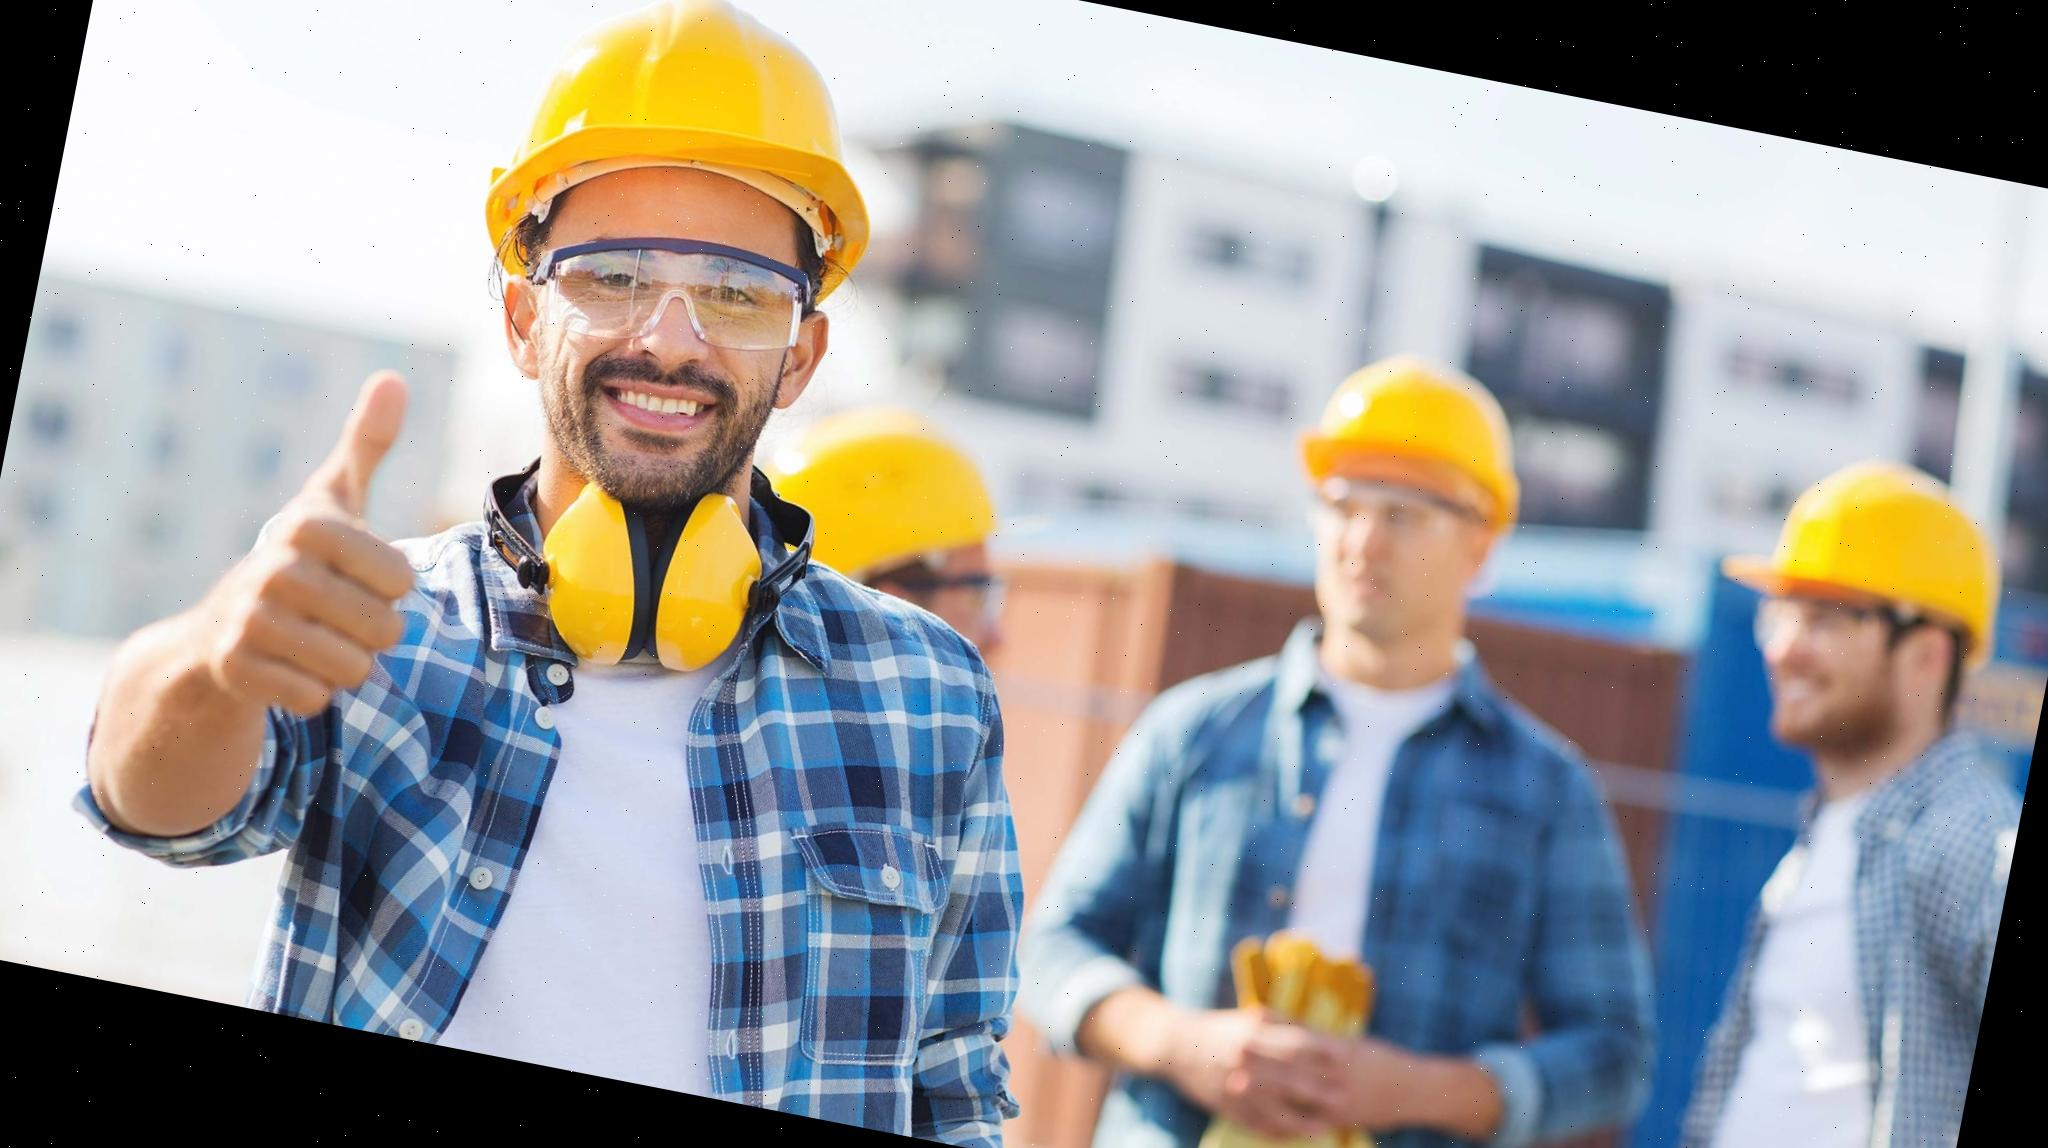helmet: (480, 0, 904, 335), (1709, 428, 2038, 665), (748, 393, 1014, 594), (1286, 335, 1544, 536)
no_wear: (231, 492, 1108, 1148), (992, 629, 1668, 1148), (1649, 747, 2016, 1148)
